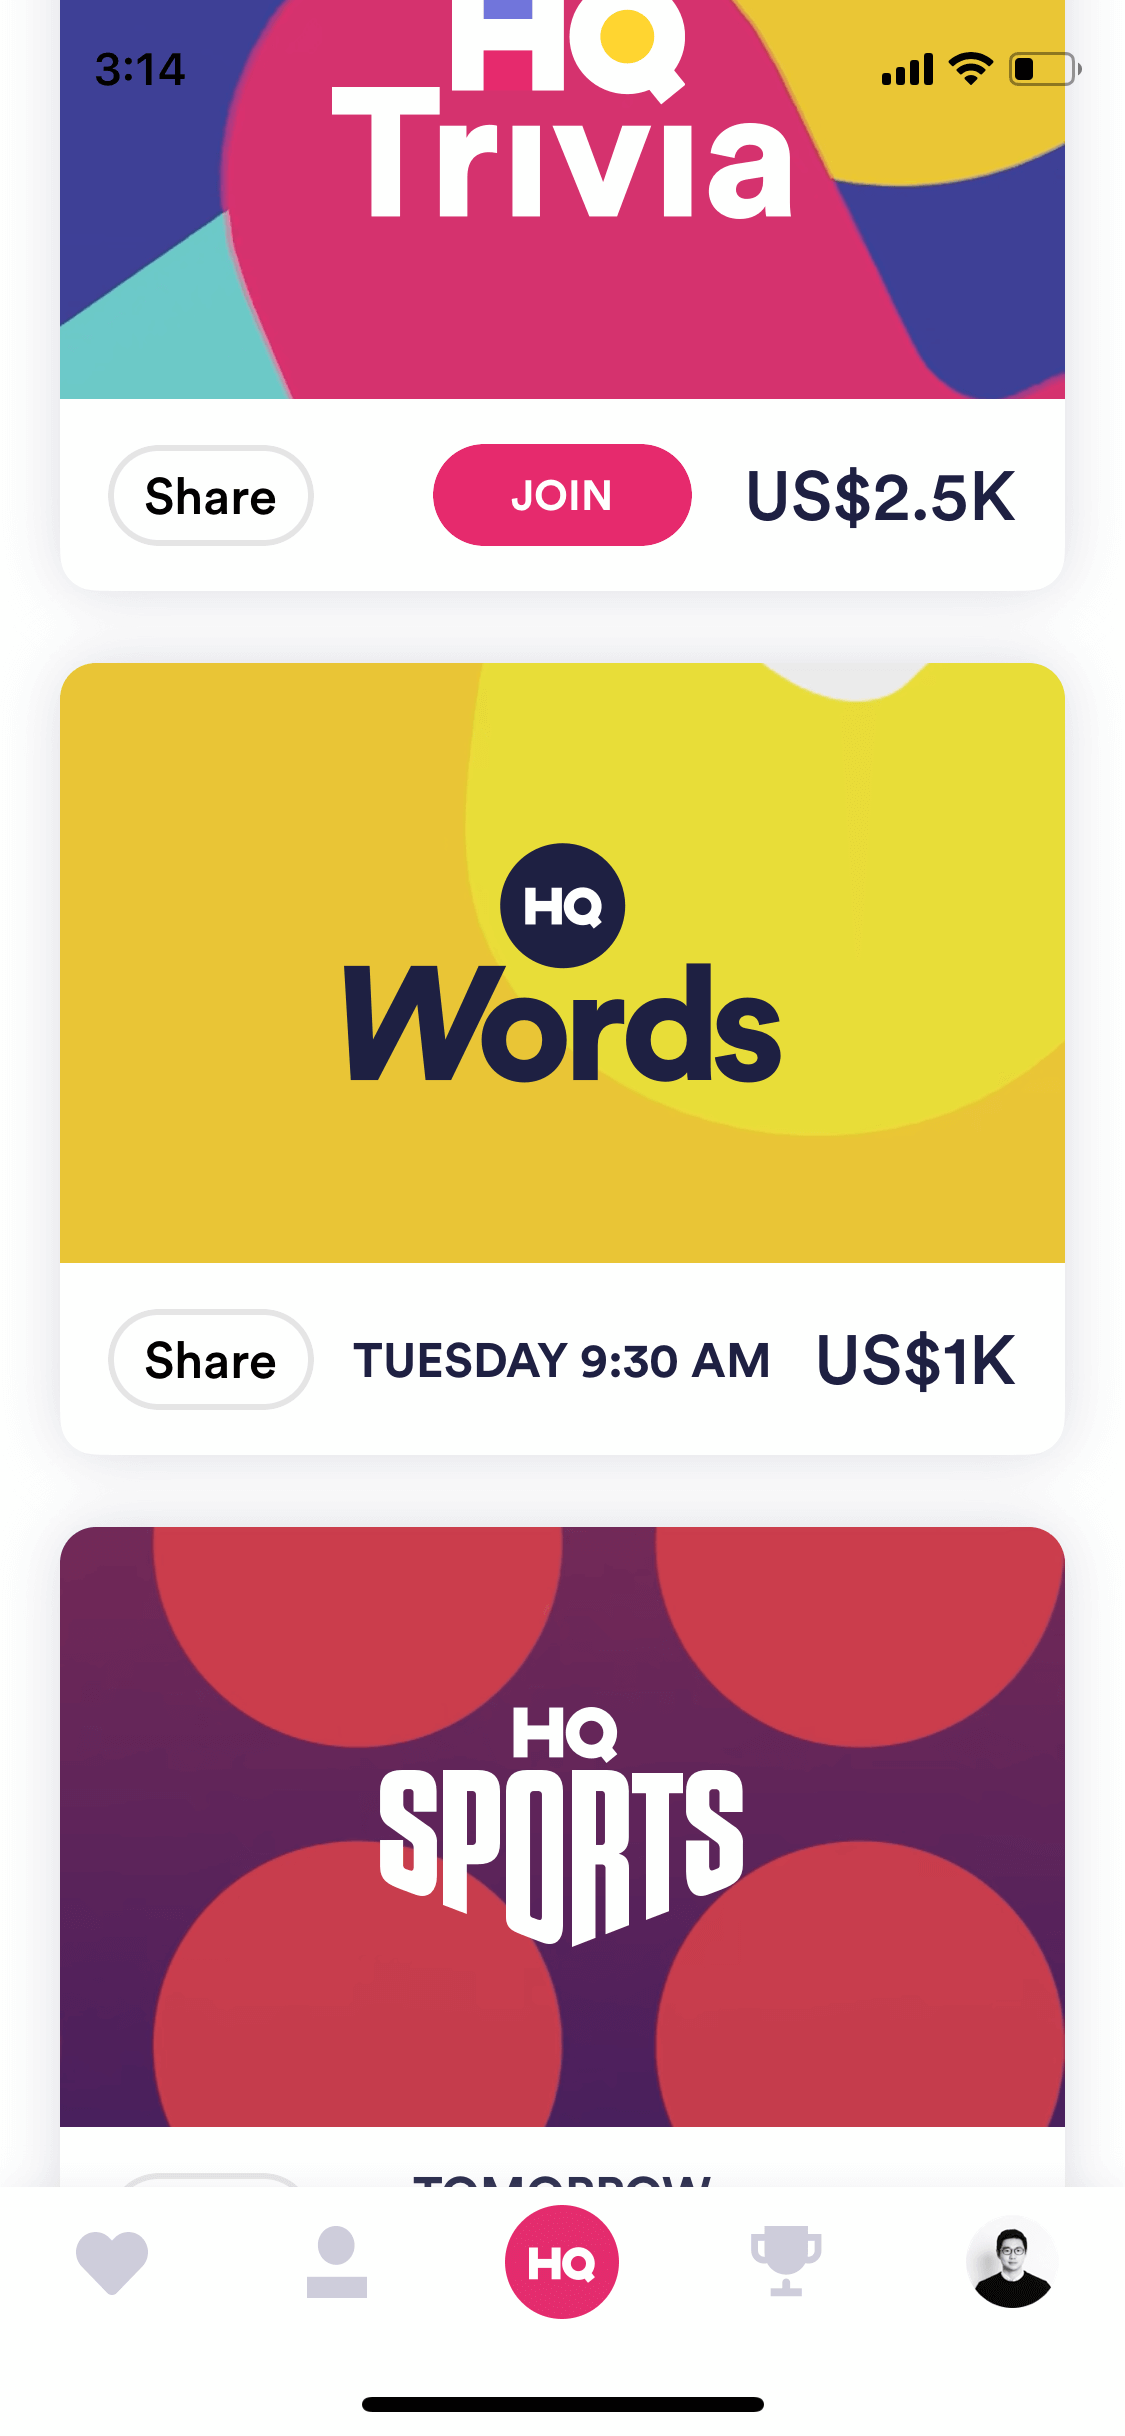Buttons: (423, 440, 701, 555), (101, 1297, 329, 1415), (103, 441, 325, 553)
